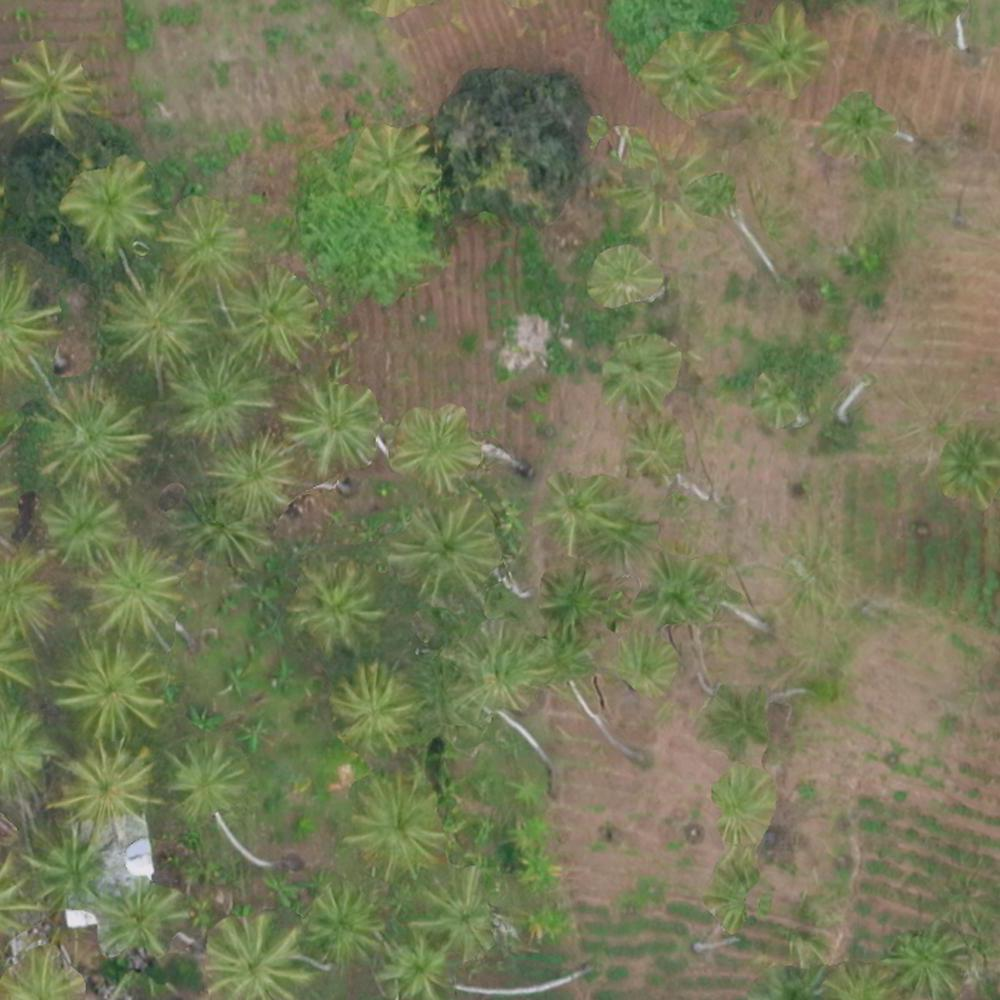Palm: (35, 391, 136, 491), (392, 506, 498, 596), (82, 541, 182, 633), (285, 376, 378, 473), (164, 352, 261, 438), (351, 783, 443, 872), (204, 916, 301, 998), (62, 749, 152, 836), (63, 650, 158, 731), (3, 42, 86, 134), (228, 273, 319, 356), (110, 278, 199, 361), (332, 660, 411, 750), (159, 197, 243, 280), (288, 568, 371, 650), (446, 627, 535, 702), (544, 468, 633, 543), (413, 871, 491, 955), (395, 408, 481, 484), (353, 127, 434, 206), (94, 879, 184, 949), (649, 33, 732, 108), (71, 168, 153, 243), (42, 489, 124, 562), (211, 445, 293, 517), (740, 10, 816, 86), (305, 886, 383, 959), (166, 742, 242, 814), (603, 336, 679, 407), (638, 558, 717, 625), (891, 926, 969, 993), (29, 839, 105, 906), (533, 572, 618, 628), (702, 683, 771, 750), (936, 432, 1000, 504), (711, 757, 772, 831), (608, 632, 677, 696), (538, 624, 601, 688), (590, 248, 655, 308), (374, 938, 442, 993), (828, 93, 888, 154), (624, 423, 688, 479)
